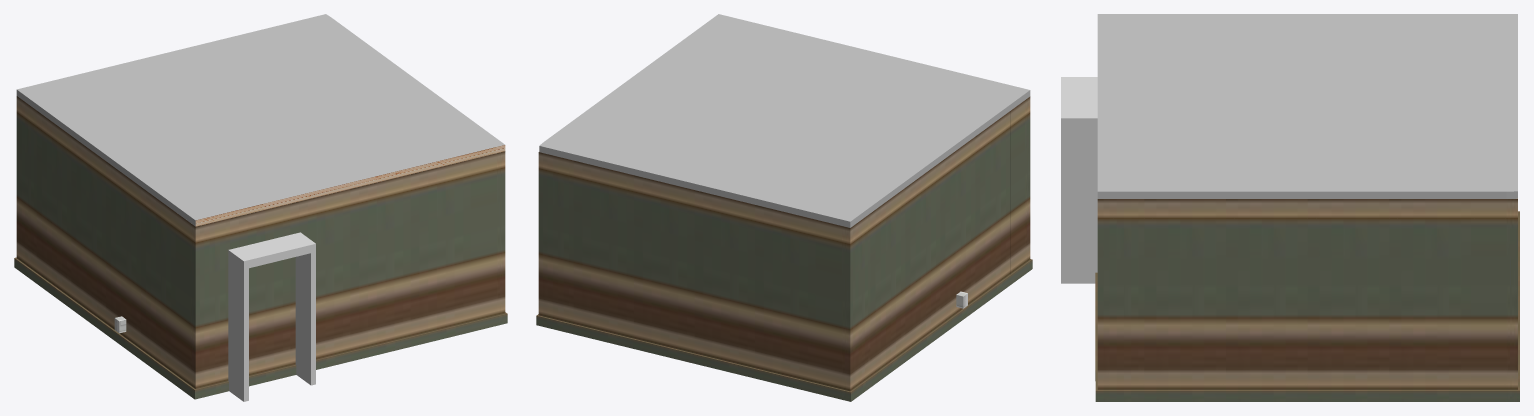
File: websiteRoom.gltf
3 renders of one model, left to right at view 1: azimuth 30°, elevation 25°; view 2: azimuth 150°, elevation 25°; view 3: azimuth 270°, elevation 25°, orthographic. The views are drawn at different scales.
Visible parts, largest first — view 1: Cube.023, Cube.113, Cube.114, Cube.109, Cube.112, Cube.117, Cube.111, Cube.110, Cube.011, Cube.012, Cube.019, Cube.018 (+1 smaller); view 2: Cube.023, Cube.014, Cube.016, Cube.015, Cube.017, Cube.010, Cube.012, Cube.011, Cube.009, Cube.018, Cube.019, Cube.109; view 3: Cube.023, Cube.013, Cube.024, Cube.025, Cube.026, Cube.110, Cube.009, Cube.117.
Part boxes in pixels (box(x1,y1,x2,y2)): Cube.023: box(16, 14, 505, 226); Cube.113: box(350, 174, 411, 361); Cube.114: box(410, 159, 471, 346); Cube.109: box(174, 212, 229, 399); Cube.112: box(290, 189, 351, 375); Cube.117: box(228, 232, 315, 401); Cube.111: box(230, 203, 291, 386); Cube.110: box(470, 151, 507, 331); Cube.011: box(35, 111, 71, 307); Cube.012: box(70, 136, 105, 333); Cube.019: box(139, 187, 175, 383); Cube.018: box(104, 161, 140, 358); Cube.023: box(539, 14, 1030, 227); Cube.014: box(572, 160, 633, 348); Cube.016: box(693, 190, 754, 378); Cube.015: box(633, 175, 694, 363); Cube.017: box(754, 205, 815, 392); Cube.010: box(814, 214, 871, 401); Cube.012: box(905, 162, 941, 360); Cube.011: box(870, 188, 906, 386); Cube.009: box(536, 152, 573, 333); Cube.018: box(940, 137, 976, 335); Cube.019: box(975, 111, 1011, 309); Cube.109: box(1010, 96, 1032, 283); Cube.023: box(1097, 14, 1517, 198); Cube.013: box(1307, 199, 1389, 401); Cube.024: box(1389, 199, 1470, 401); Cube.025: box(1226, 199, 1307, 401); Cube.026: box(1144, 199, 1225, 401); Cube.110: box(1095, 199, 1144, 401); Cube.009: box(1471, 198, 1519, 401); Cube.117: box(1061, 77, 1097, 283).
Size of the model in its own units: 15.88 by 8.49 by 16.87.
